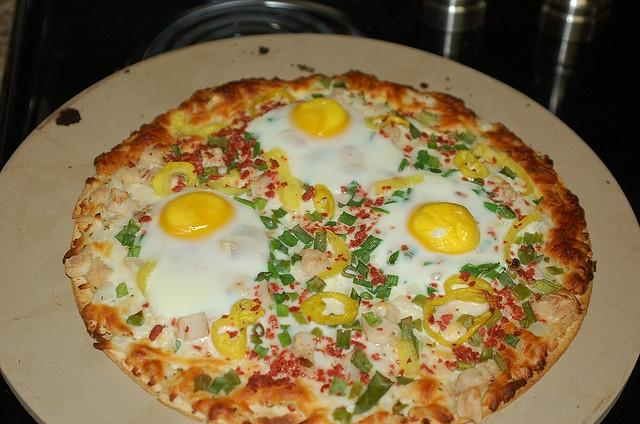green onion: (354, 370, 394, 414), (386, 101, 422, 139), (351, 345, 374, 372), (115, 220, 140, 243), (221, 368, 241, 396), (530, 278, 565, 294), (290, 224, 314, 245), (359, 235, 384, 253), (416, 149, 439, 168), (330, 376, 350, 396), (459, 263, 485, 278), (207, 377, 228, 395), (497, 271, 518, 288), (194, 374, 212, 393), (512, 284, 532, 301), (336, 329, 352, 350), (522, 300, 537, 322), (270, 238, 288, 256), (278, 231, 298, 247), (126, 310, 146, 326), (306, 276, 326, 292), (346, 194, 368, 208), (314, 230, 328, 252), (364, 311, 382, 328), (338, 211, 358, 226), (332, 408, 352, 423), (524, 231, 544, 246), (494, 352, 507, 375), (498, 204, 516, 220), (278, 328, 292, 348), (520, 245, 534, 265), (499, 165, 517, 180), (356, 260, 369, 279), (376, 285, 392, 300), (504, 333, 520, 348), (207, 134, 228, 145), (226, 160, 242, 174), (345, 180, 359, 196), (273, 291, 288, 305), (115, 282, 128, 298), (386, 250, 399, 266), (353, 278, 372, 288), (268, 262, 279, 279), (122, 234, 136, 247), (254, 344, 268, 357), (280, 273, 294, 286), (546, 266, 564, 276), (318, 78, 333, 90), (272, 208, 289, 218), (465, 128, 477, 142), (358, 250, 370, 264), (384, 274, 398, 286), (484, 270, 499, 281), (333, 78, 348, 89), (276, 304, 288, 317), (254, 161, 268, 172), (421, 110, 437, 118), (454, 143, 470, 151), (270, 214, 282, 224), (275, 266, 289, 274), (349, 288, 358, 300), (455, 130, 464, 142), (244, 132, 254, 142), (260, 216, 271, 224), (270, 252, 276, 262), (251, 202, 257, 210), (524, 241, 528, 247)
